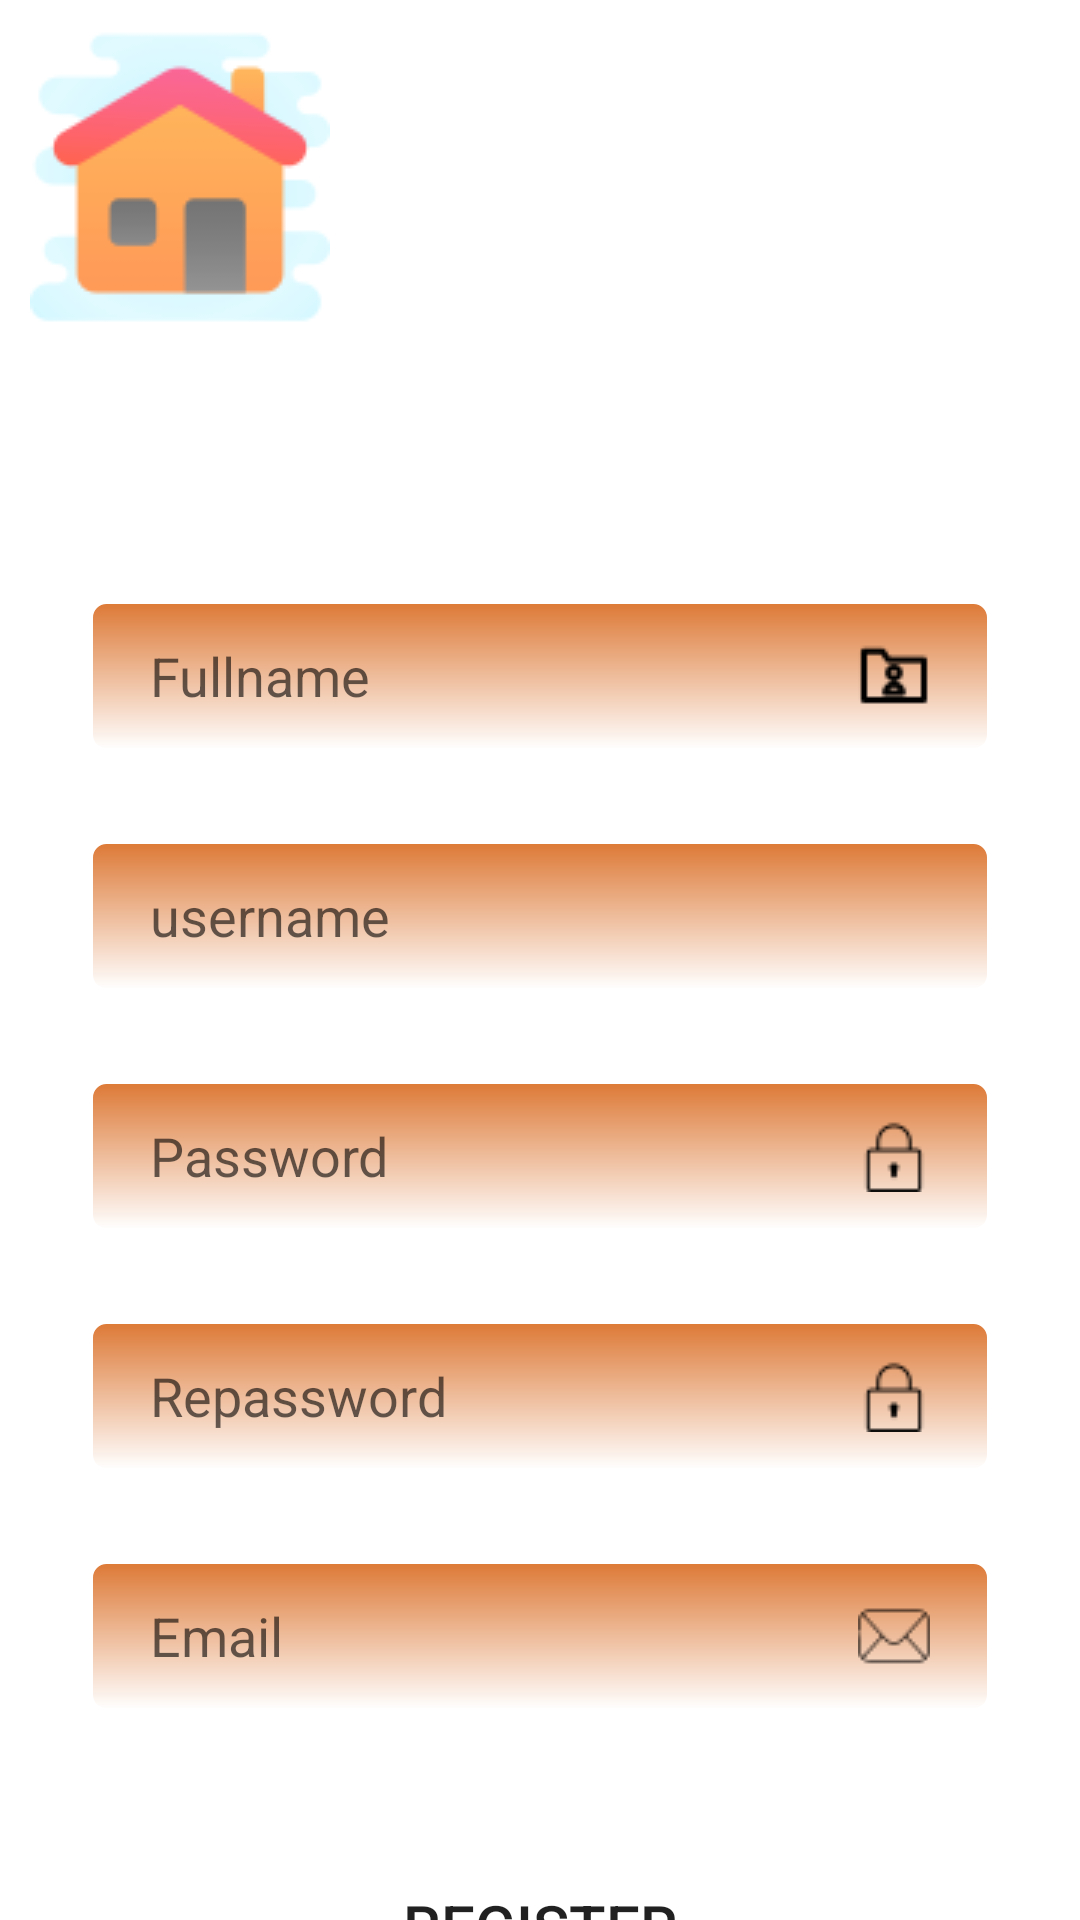

Named icons in this screenshot (1080w x 1920h) and their centers, [x,y]:
home: [180,178]
